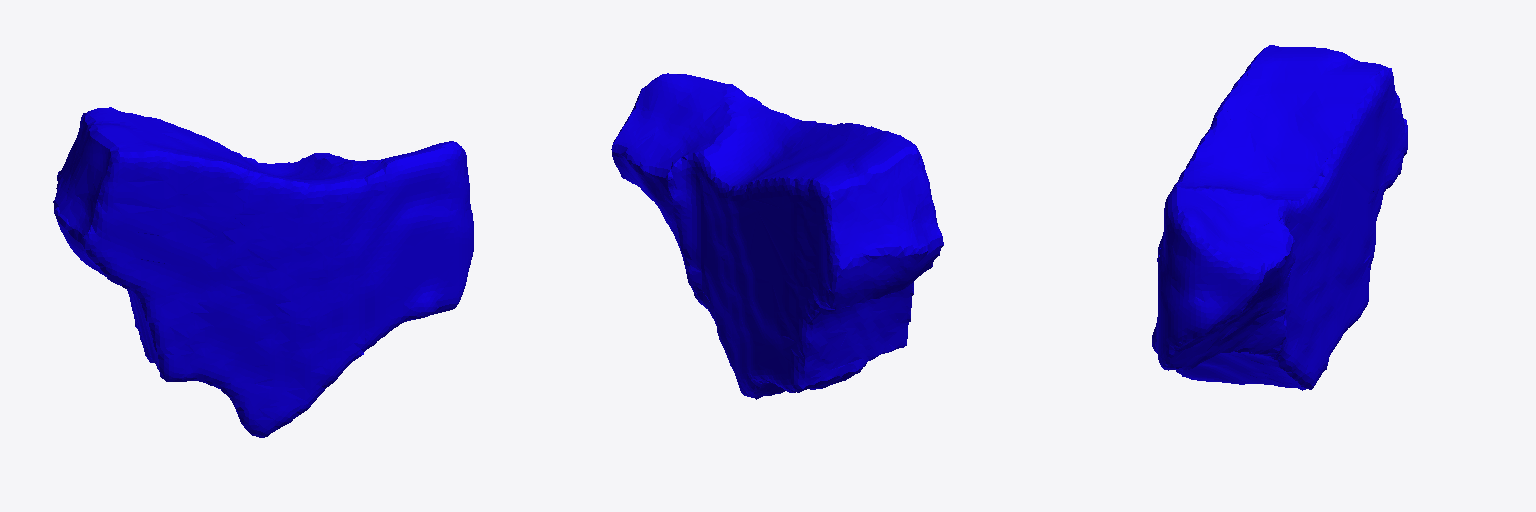
The model's file is Model_10106_LH__Parietal_area_PE_(PE).obj.
3 views of the same model, side by side, from view 1: azimuth 30°, elevation 25°; view 2: azimuth 150°, elevation 25°; view 3: azimuth 270°, elevation 25° (orthographic).
Bounding box in the file's own units: 6.08 × 4.71 × 3.85.